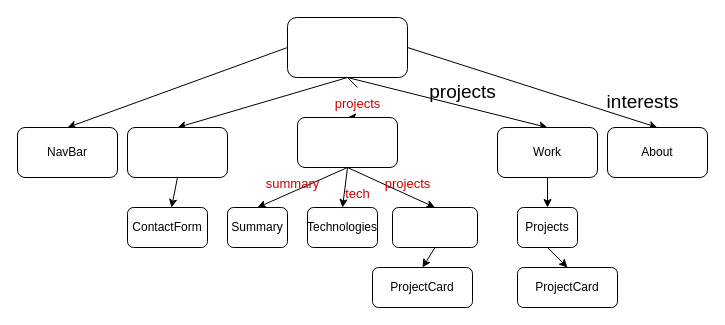
Some shapes in this 725 by 325 pixel diagram are drawn without their labels. Each missing label, with the centre of its shape:
"App" belongs at point (347, 47).
"ContactPage" belongs at point (177, 152).
"HomePage" belongs at point (347, 142).
"RecentProject" belongs at point (435, 227).
